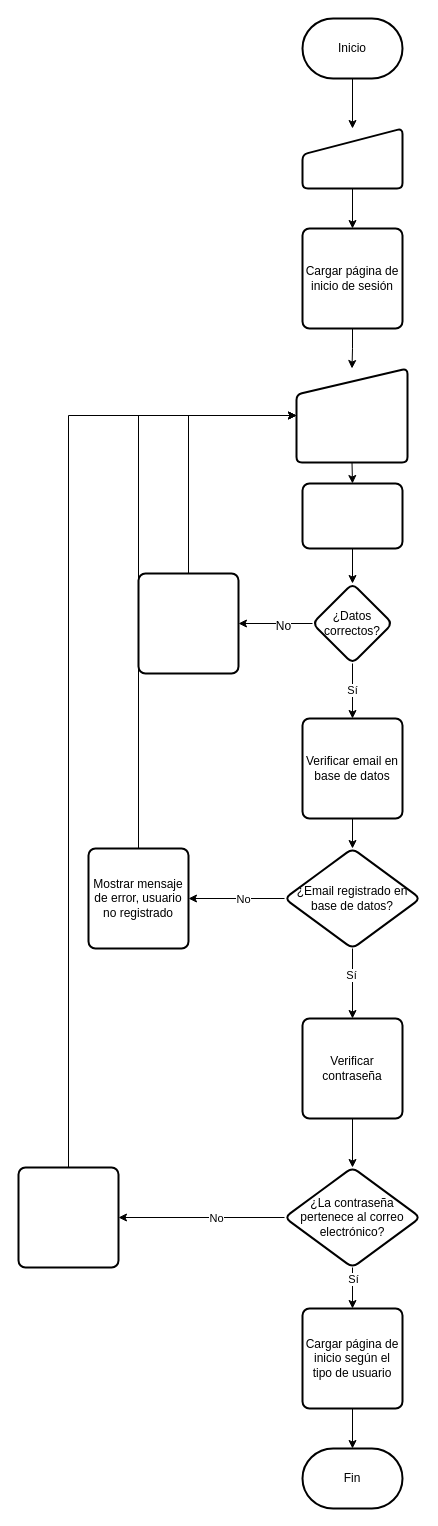
The diagram is 438 pixels wide and 1526 high, and some of its shapes have lost their labels. The centre of each missing label's shape, as x and y in pixels:
Abrir página de inicio de sesión: the point at 352,158
Ingresar email y contraseña: the point at 351,415
Mostrar mensaje de error al usuario: the point at 188,623
Mostrar mensaje de error, contraseña no válida: the point at 68,1217
Verificar campos: the point at 352,515
